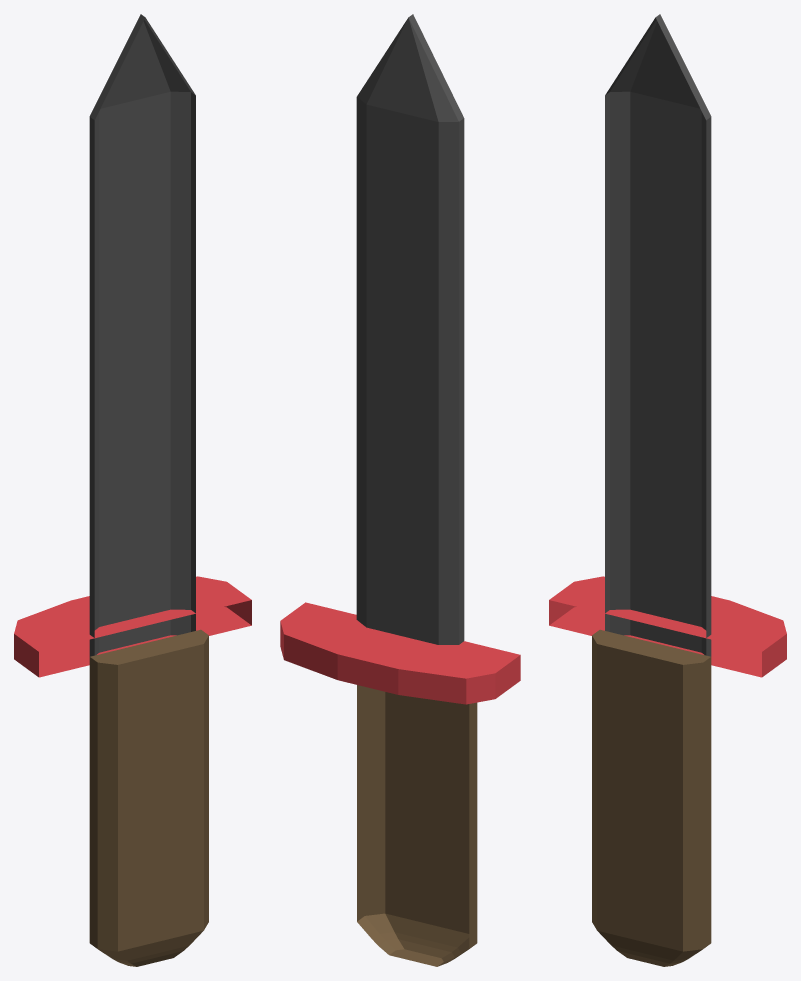
Rendered from knife.glb.
The picture shows the model from 3 angles, left to right: view 1: azimuth 30°, elevation 25°; view 2: azimuth 150°, elevation 25°; view 3: azimuth 330°, elevation 25°; orthographic projection.
Parts seen in each view (by area): view 1: Cube.001, Cube, Cube.002; view 2: Cube.001, Cube, Cube.002; view 3: Cube.001, Cube, Cube.002.
Part boxes in pixels (left/top/right/bottom): Cube.001: left=89, top=14, right=195, bottom=656; Cube: left=89, top=629, right=208, bottom=966; Cube.002: left=14, top=576, right=251, bottom=677; Cube.001: left=356, top=14, right=464, bottom=644; Cube: left=357, top=685, right=477, bottom=966; Cube.002: left=280, top=602, right=520, bottom=704; Cube.001: left=605, top=14, right=711, bottom=656; Cube: left=592, top=629, right=711, bottom=966; Cube.002: left=549, top=576, right=786, bottom=677.
Size of the model in its own units: 2.94 by 12.37 by 1.44.
